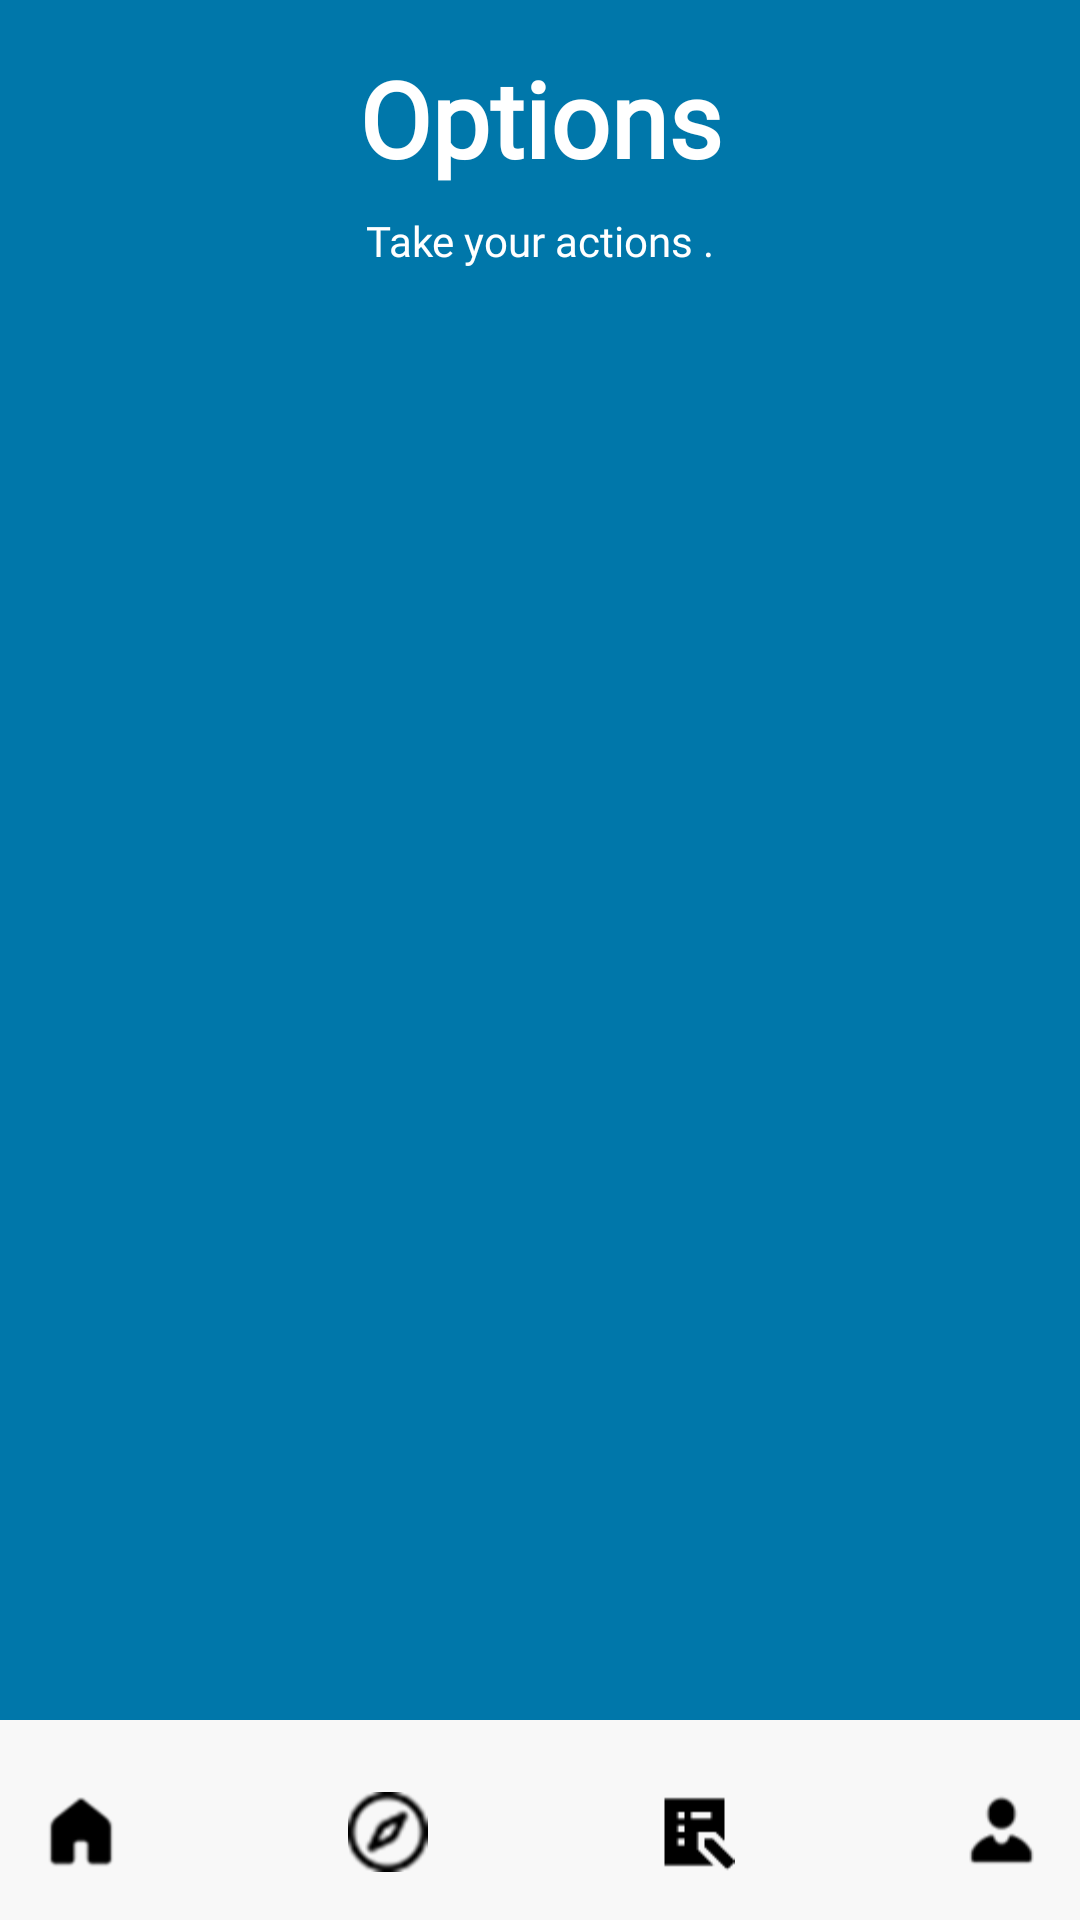

Where to tap for icons on this 1080 x 1920 app screen, as point (x, y):
discover: point (388, 1832)
